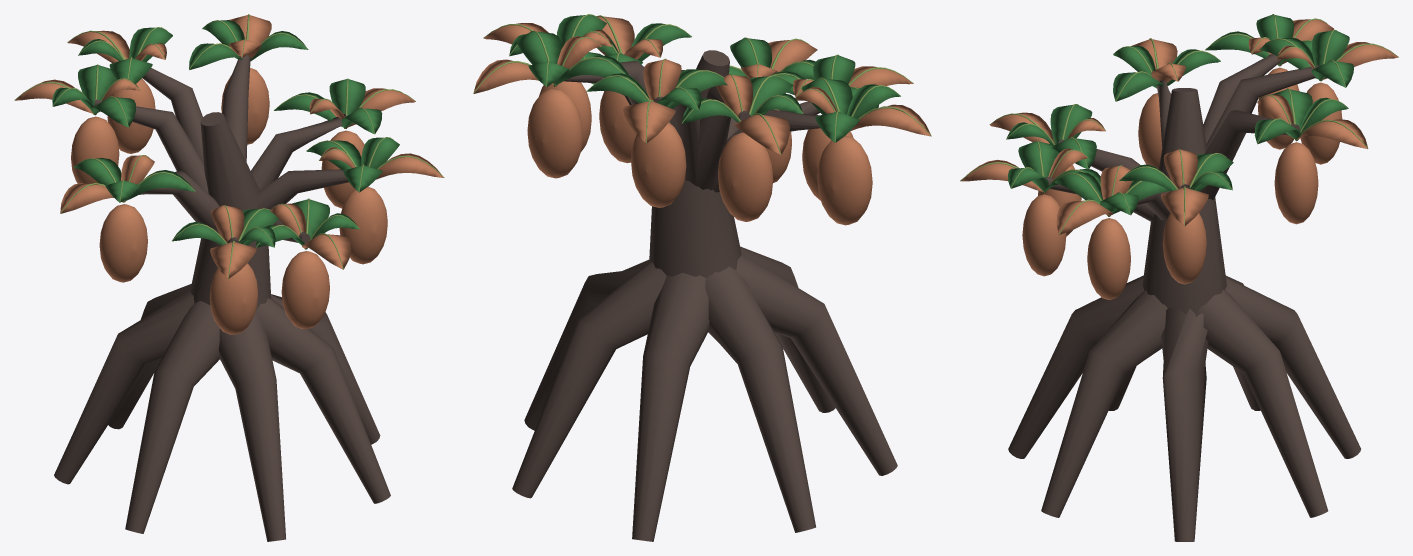
The model's file is xylo_mangrove.glb.
3 renders of one model, left to right at view 1: azimuth 30°, elevation 25°; view 2: azimuth 150°, elevation 25°; view 3: azimuth 270°, elevation 25°, orthographic. The views are drawn at different scales.
Parts seen in each view (by area): view 1: xylo_mangrove; view 2: xylo_mangrove; view 3: xylo_mangrove.
Boxes of the visible parts, <box> form: xylo_mangrove: <box>14,14,444,541</box>; xylo_mangrove: <box>473,14,931,541</box>; xylo_mangrove: <box>960,14,1398,541</box>.
Size of the model in its own units: 12.23 by 12.52 by 12.
